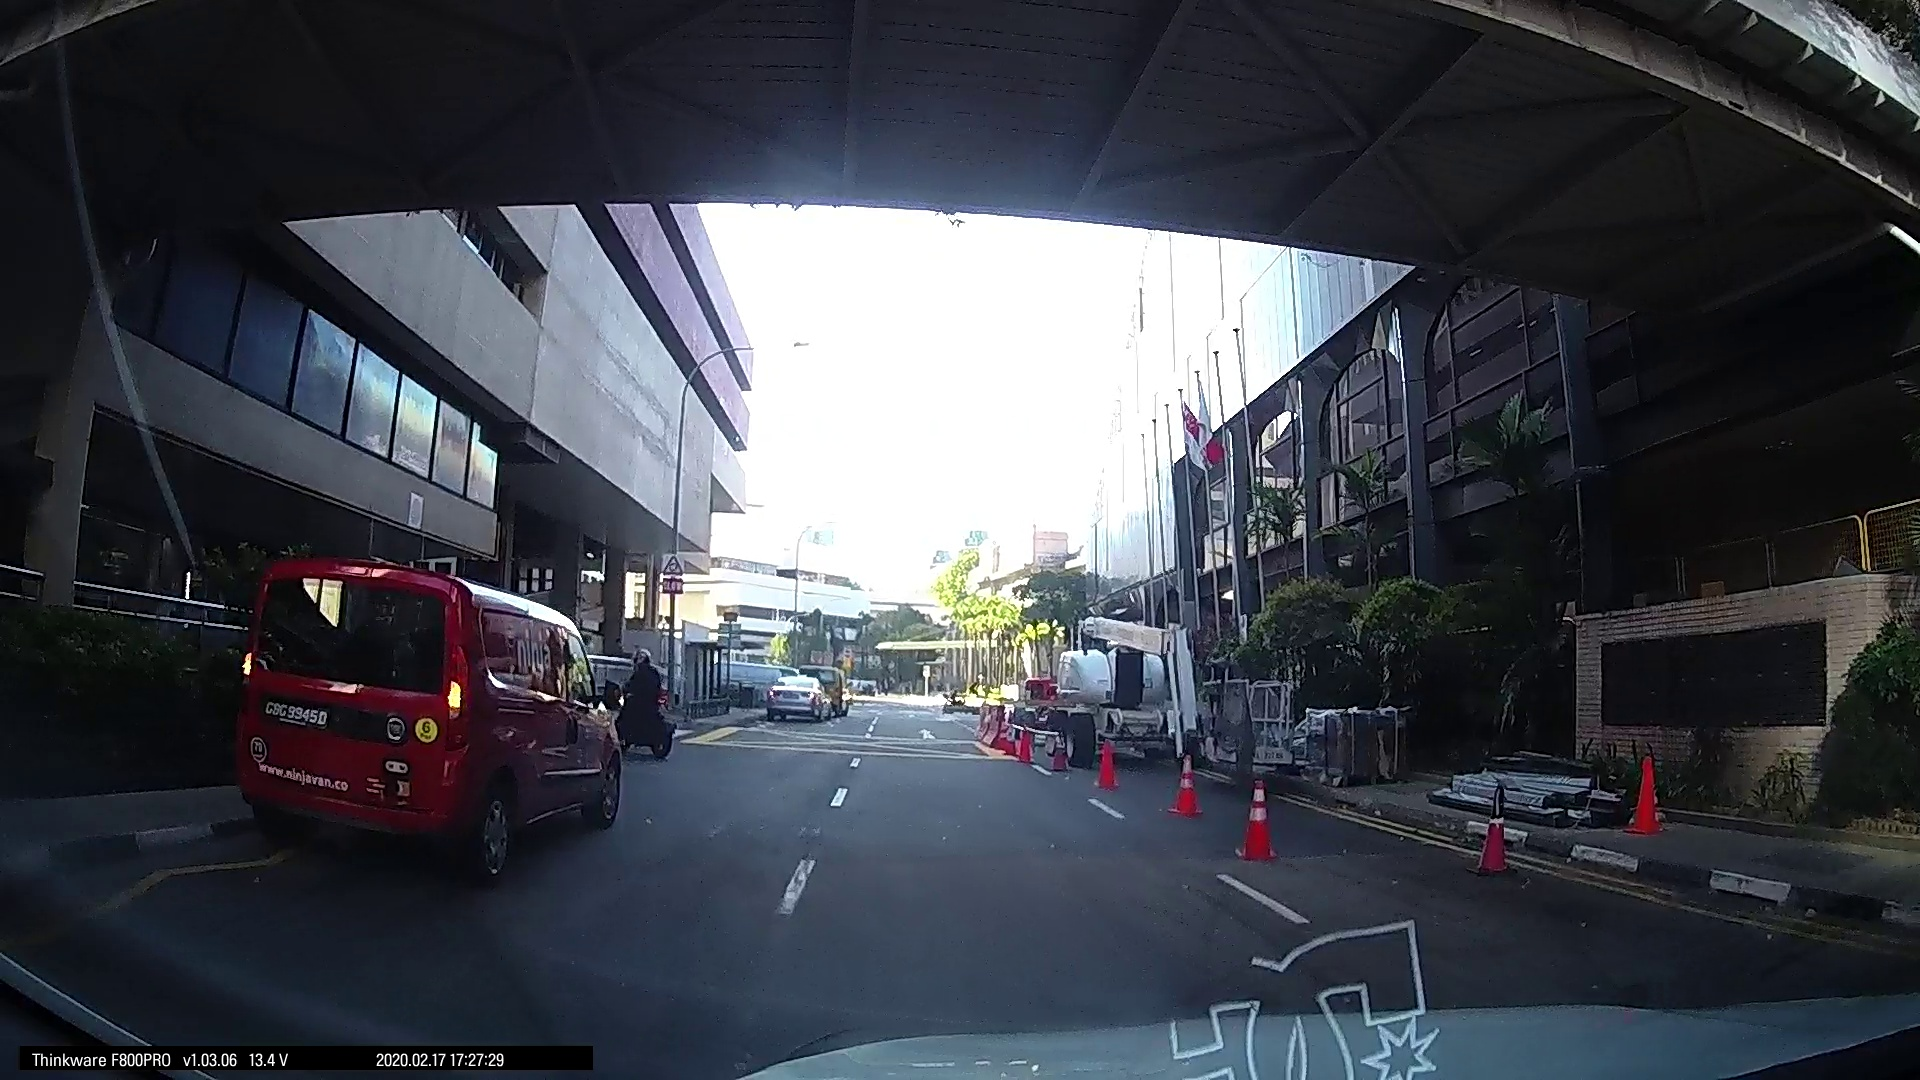Heavy Vehicle: (843, 621, 945, 721)
Light Vehicle: (90, 624, 674, 965), (583, 644, 800, 825), (1466, 662, 1685, 807), (1389, 680, 1484, 771), (1323, 684, 1398, 752), (1145, 650, 1205, 707), (1017, 655, 1064, 696), (945, 647, 982, 684)
